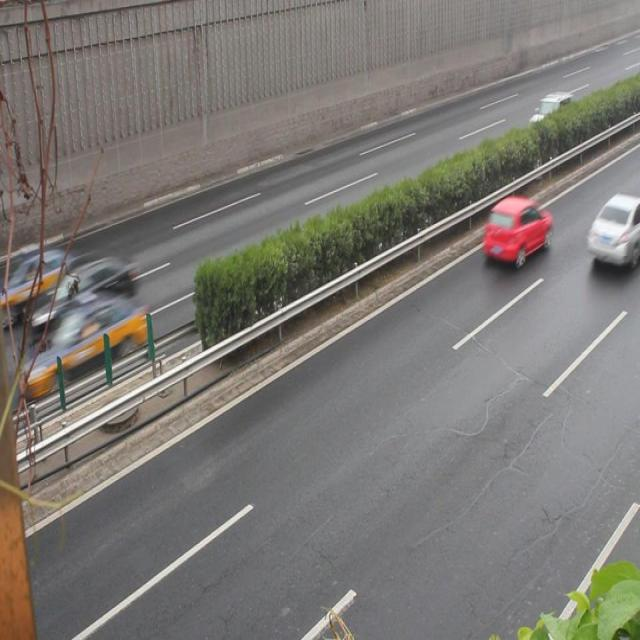car: (21, 287, 148, 399), (28, 254, 138, 338), (480, 196, 551, 267), (9, 247, 80, 316), (584, 192, 640, 268), (526, 91, 576, 141)
